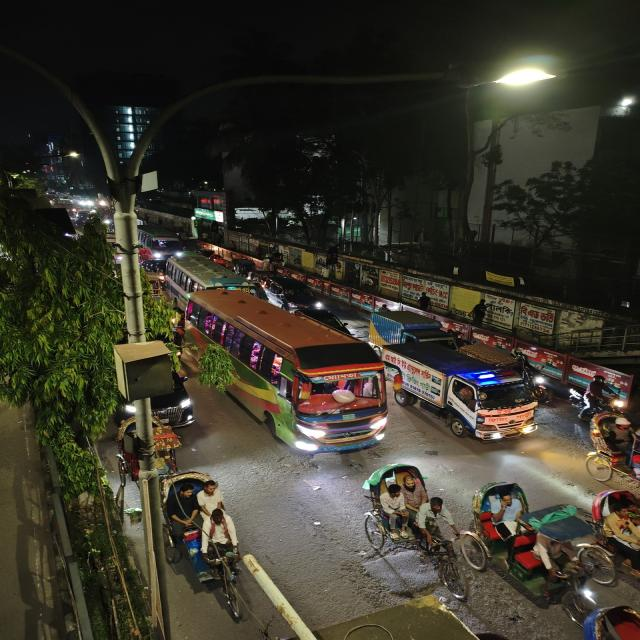bus: (189, 286, 389, 455), (165, 255, 248, 297)
car: (259, 274, 325, 312)
rickshaw: (460, 476, 609, 606), (157, 467, 248, 619), (361, 460, 456, 572), (584, 411, 640, 492), (594, 486, 640, 577), (565, 380, 620, 416)
truck: (390, 357, 528, 442), (370, 309, 455, 345)
